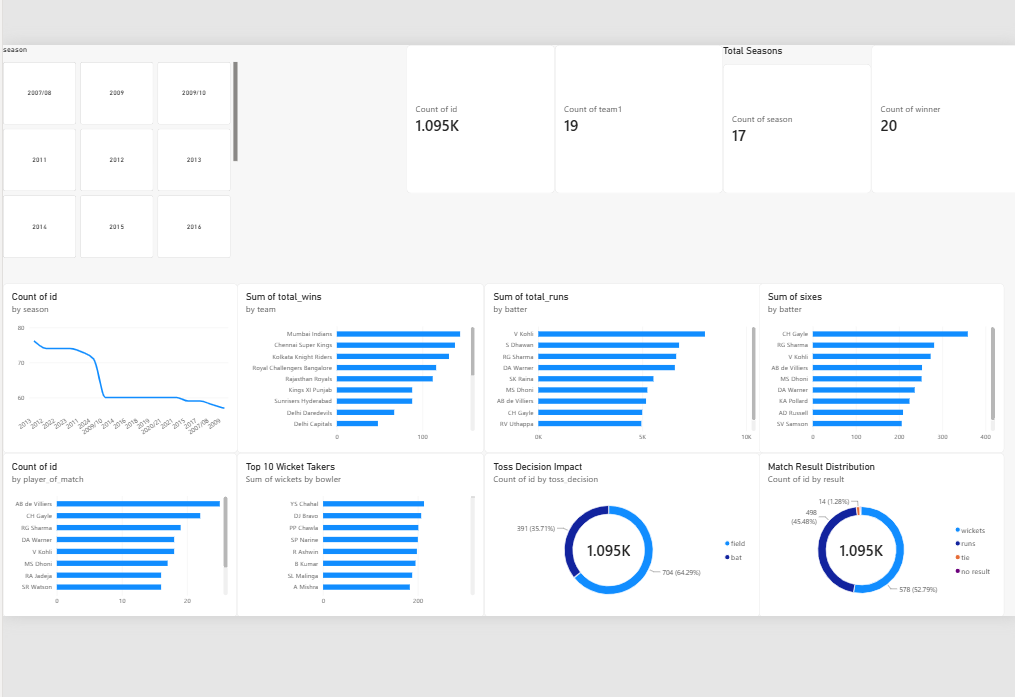

This screenshot's page, from the dashboard's own definition file:
{"tool":"powerbi","page":{"name":"IPL PERFORMANCE DASHBOARD","canvas":[1920,1080],"ordinal":0},"visuals":[{"type":"cardVisual","fields":{"Data":["CountNonNull(public matches.id)"]},"box":[763.3,0,280,280],"z":0},{"type":"cardVisual","fields":{"Data":["Count(public matches.team1)"]},"box":[1043.3,0,317.5,280.6],"z":1000},{"type":"cardVisual","title":"Total Seasons","fields":{"Data":["Count(public matches.season)"]},"box":[1360,0,280,280],"z":2000},{"type":"cardVisual","fields":{"Data":["Count(public matches.winner)"]},"box":[1640,0,280,280],"z":3000},{"type":"lineChart","fields":{"Category":["public matches.season"],"Y":["CountNonNull(public matches.id)"]},"box":[0,450,443.3,320],"z":4000},{"type":"clusteredBarChart","fields":{"Category":["public team_performance.team"],"Y":["Sum(public team_performance.total_wins)"]},"box":[443.3,450,466.7,320],"z":5000},{"type":"clusteredBarChart","fields":{"Category":["public batting_performance.batter"],"Y":["Sum(public batting_performance.total_runs)"]},"box":[910,450,530,320],"z":6000},{"type":"clusteredBarChart","fields":{"Category":["public matches.player_of_match"],"Y":["CountNonNull(public matches.id)"]},"box":[0,770,442,310],"z":7000},{"type":"clusteredBarChart","title":"Top 10 Wicket Takers","fields":{"Category":["public bowling_performance.bowler"],"Y":["Sum(public bowling_performance.wickets)"]},"box":[443.3,770,466.7,310],"z":8000},{"type":"donutChart","title":"Toss Decision Impact","fields":{"Category":["public matches.toss_decision"],"Y":["CountNonNull(public matches.id)"]},"box":[910,770,520,310],"z":9000},{"type":"advancedSlicerVisual","fields":{"Values":["public matches.season"]},"box":[0,0,443.3,403.3],"z":10000},{"type":"donutChart","title":"Match Result Distribution","fields":{"Category":["public matches.result"],"Y":["CountNonNull(public matches.id)"]},"box":[1430,770,463.3,310],"z":10001},{"type":"clusteredBarChart","fields":{"Category":["public batting_performance.batter"],"Y":["Sum(public batting_performance.sixes)"]},"box":[1430,450,463.3,320],"z":10002}]}

Visuals, with their boxes on the page's 1920x1080 design canvas (x1, y1, x2, y2). These are canvas units, not pixel positions in the 1015x697 screenshot, which may show the page scaled, cropped or inside an application window:
cardVisual - CountNonNull(public matches.id): crop(763, 0, 1043, 280)
cardVisual - Count(public matches.team1): crop(1043, 0, 1361, 281)
"Total Seasons" cardVisual: crop(1360, 0, 1640, 280)
cardVisual - Count(public matches.winner): crop(1640, 0, 1920, 280)
lineChart - public matches.season x CountNonNull(public matches.id): crop(0, 450, 443, 770)
clusteredBarChart - public team_performance.team x Sum(public team_performance.total_wins): crop(443, 450, 910, 770)
clusteredBarChart - public batting_performance.batter x Sum(public batting_performance.total_runs): crop(910, 450, 1440, 770)
clusteredBarChart - public matches.player_of_match x CountNonNull(public matches.id): crop(0, 770, 442, 1080)
"Top 10 Wicket Takers" clusteredBarChart: crop(443, 770, 910, 1080)
"Toss Decision Impact" donutChart: crop(910, 770, 1430, 1080)
advancedSlicerVisual - public matches.season: crop(0, 0, 443, 403)
"Match Result Distribution" donutChart: crop(1430, 770, 1893, 1080)
clusteredBarChart - public batting_performance.batter x Sum(public batting_performance.sixes): crop(1430, 450, 1893, 770)
